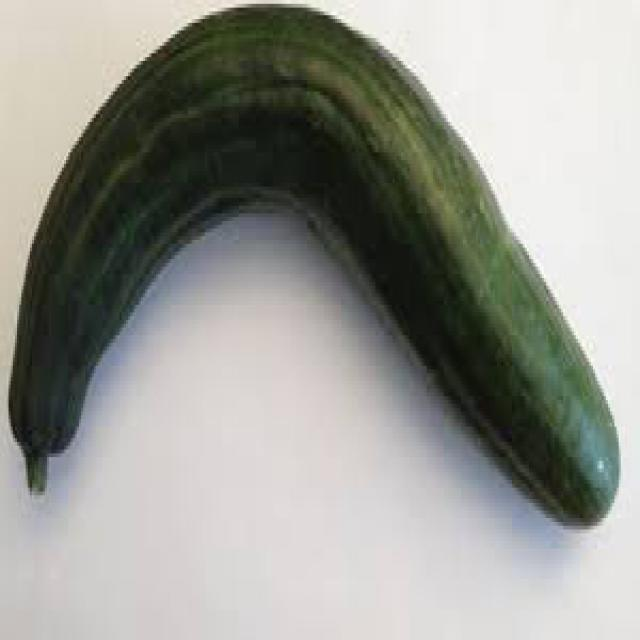cucumber: (11, 4, 624, 538)
